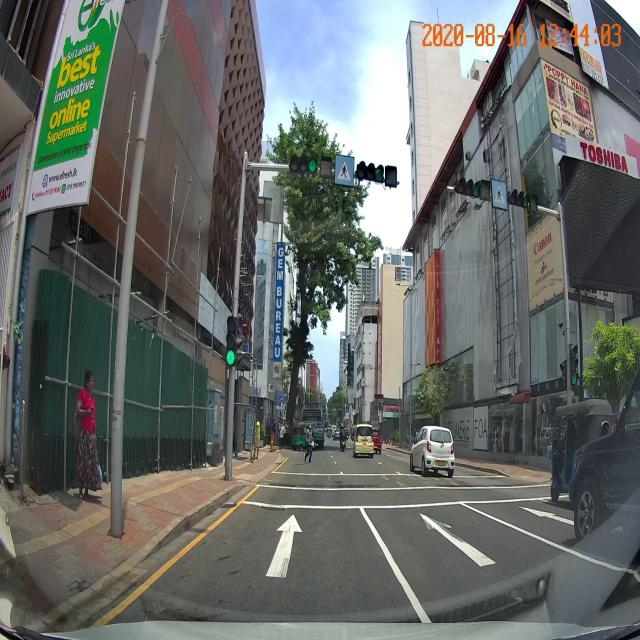forward: (138, 511, 413, 593)
